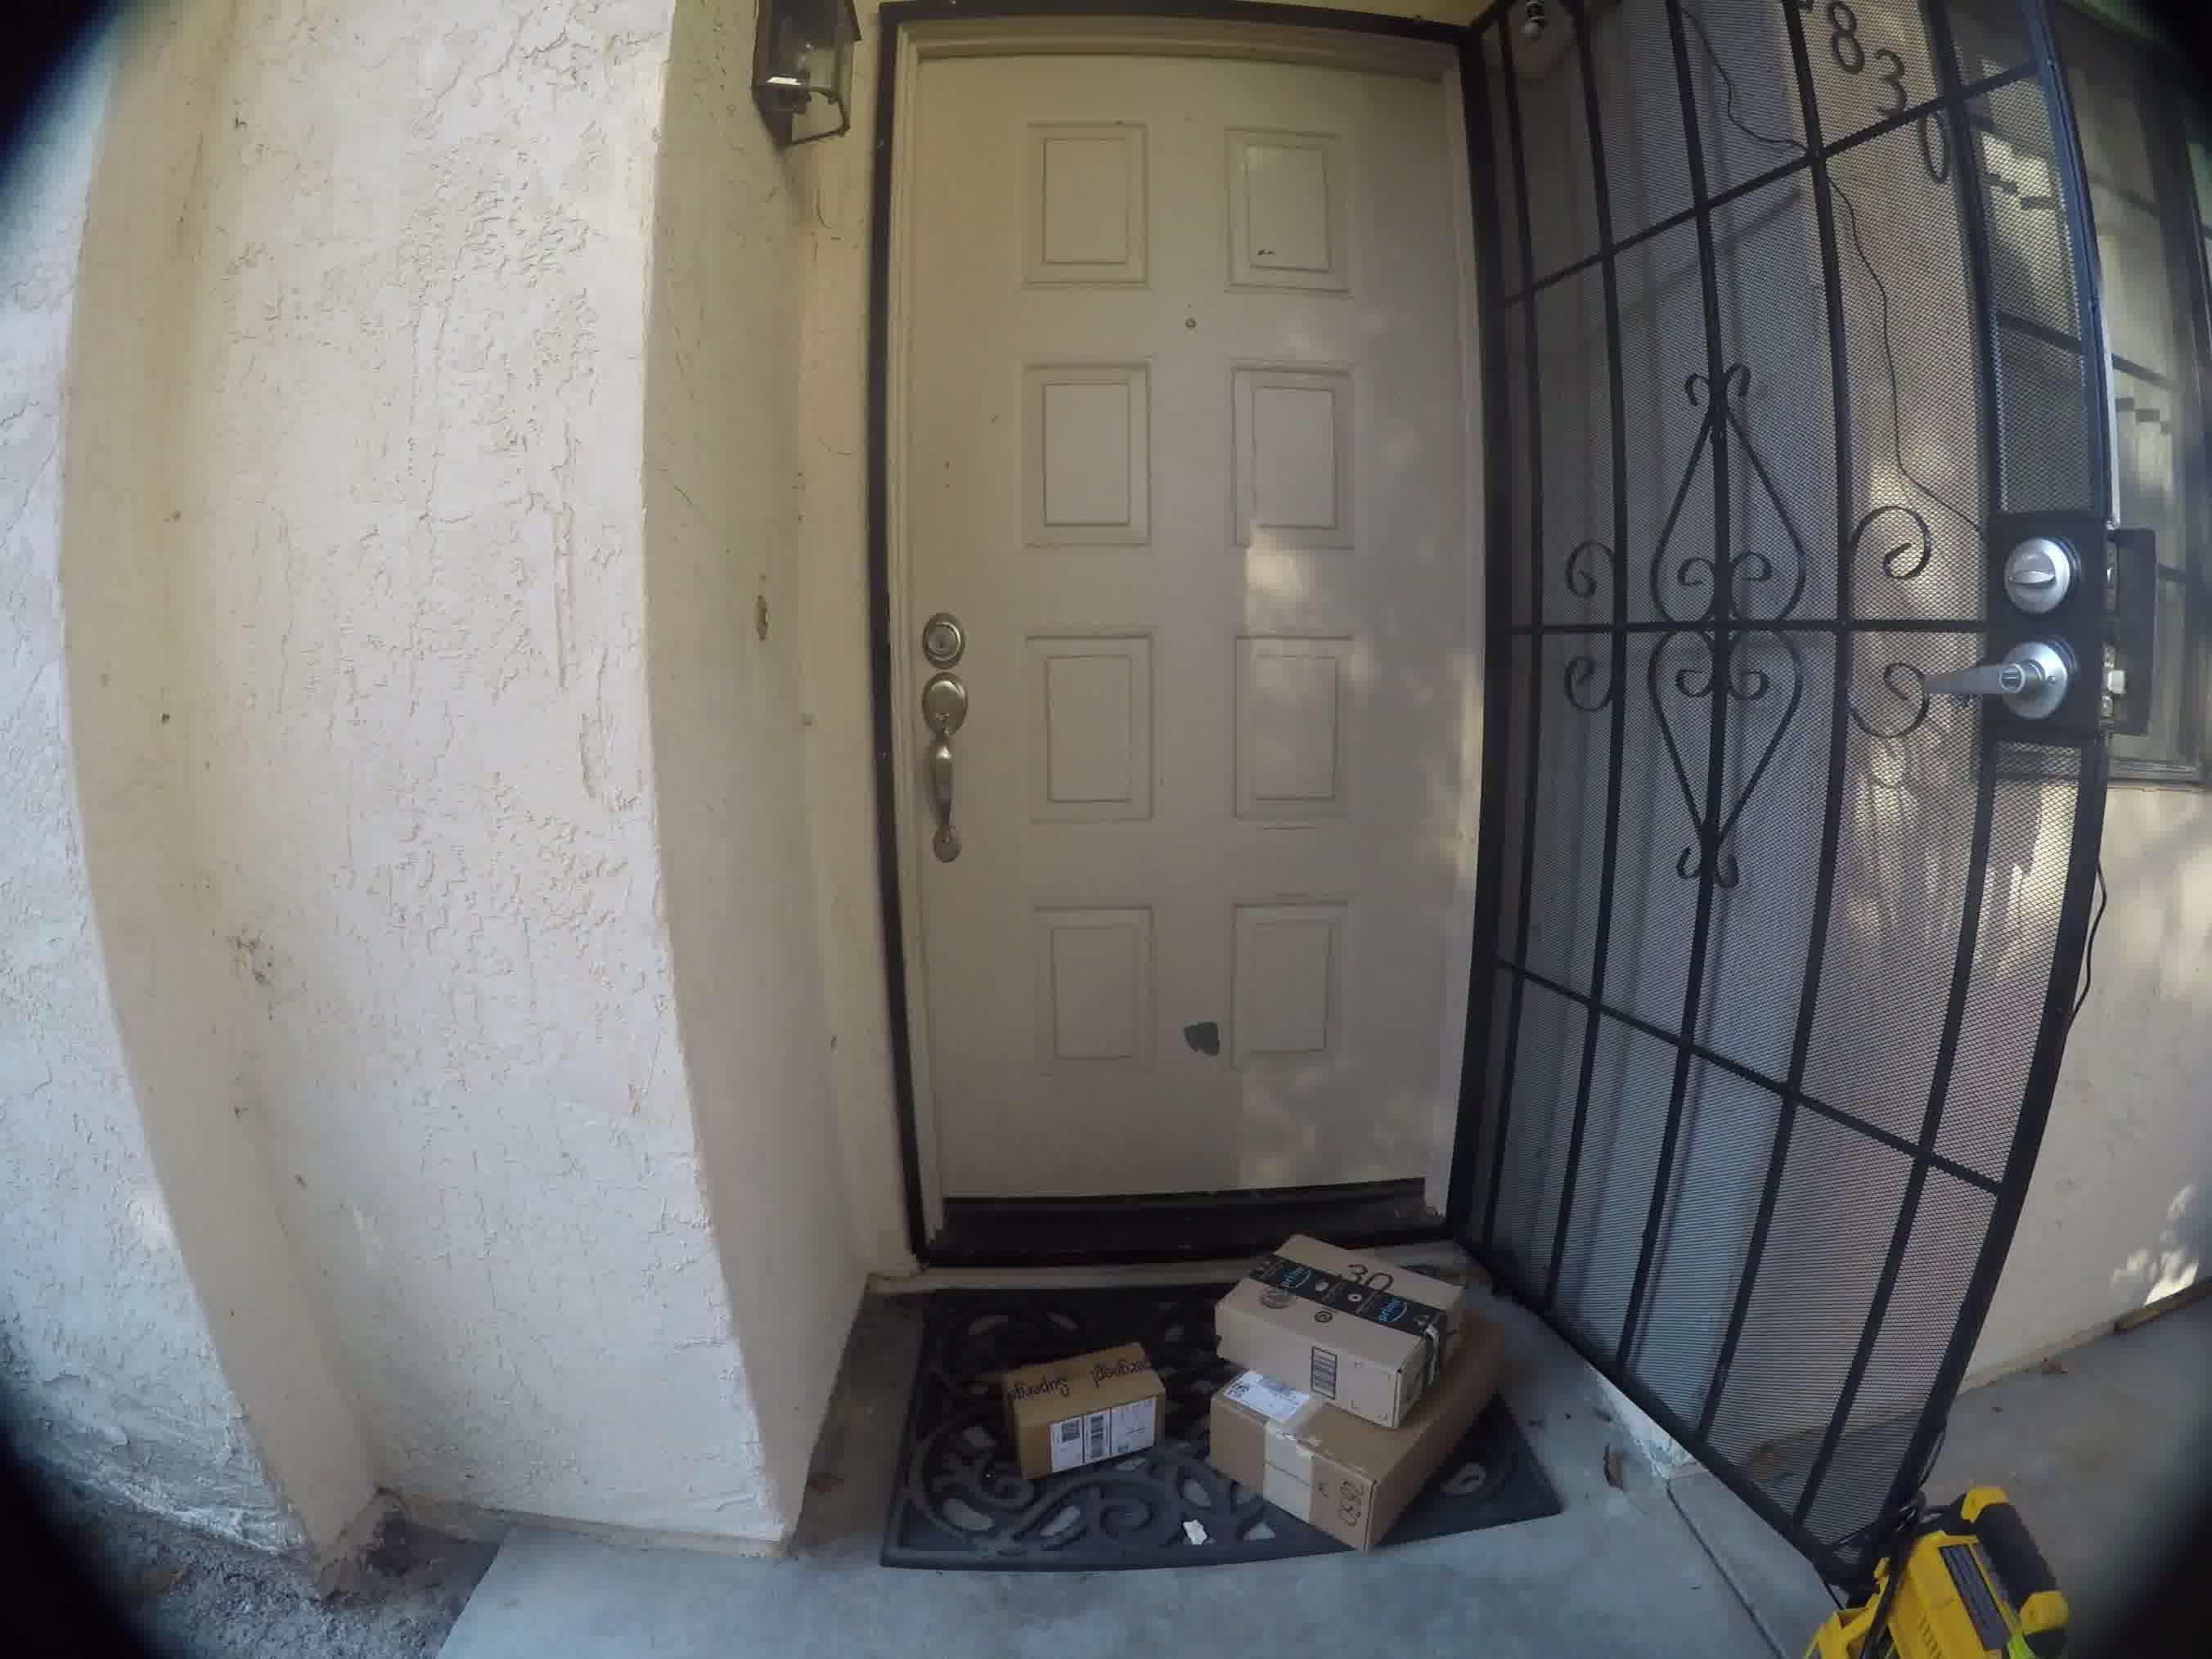box: (1207, 1387, 1508, 1588), (1174, 1241, 1486, 1384), (967, 1328, 1163, 1467)
